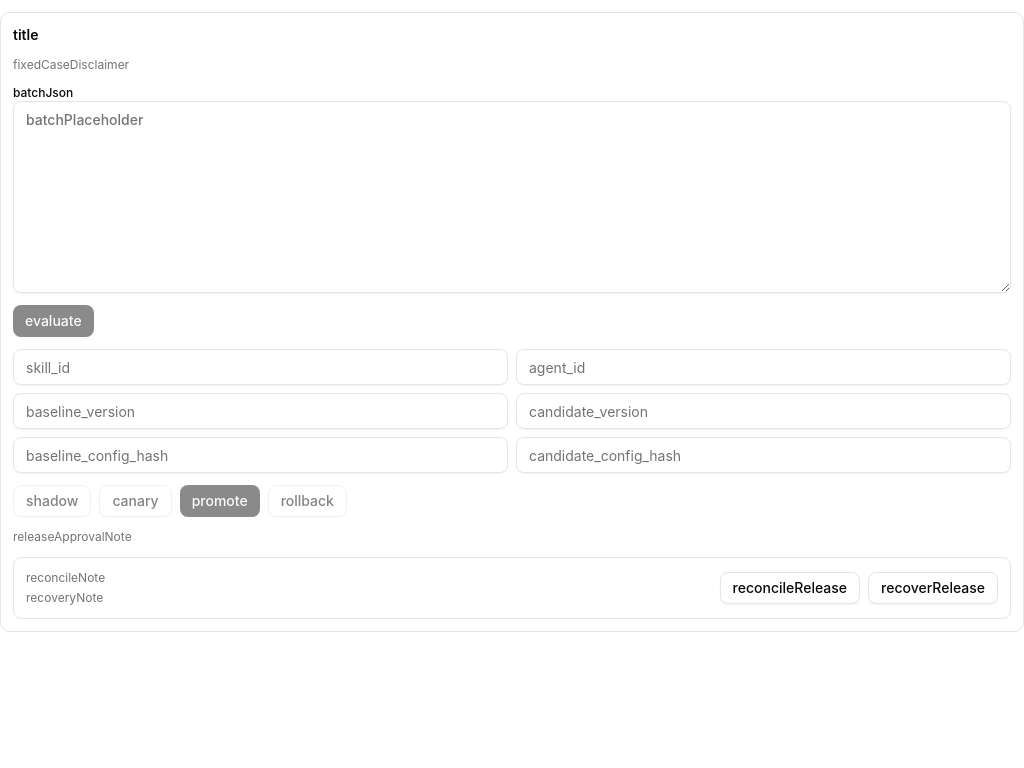
EvolutionEvaluationReleasePanel › keeps the pending recovery controls available and shows recovery errors
The image size is (1024, 768).
Click the button "recoverRelease" at {"x": 933, "y": 588}, box x1=868 y1=572 x2=998 y2=604
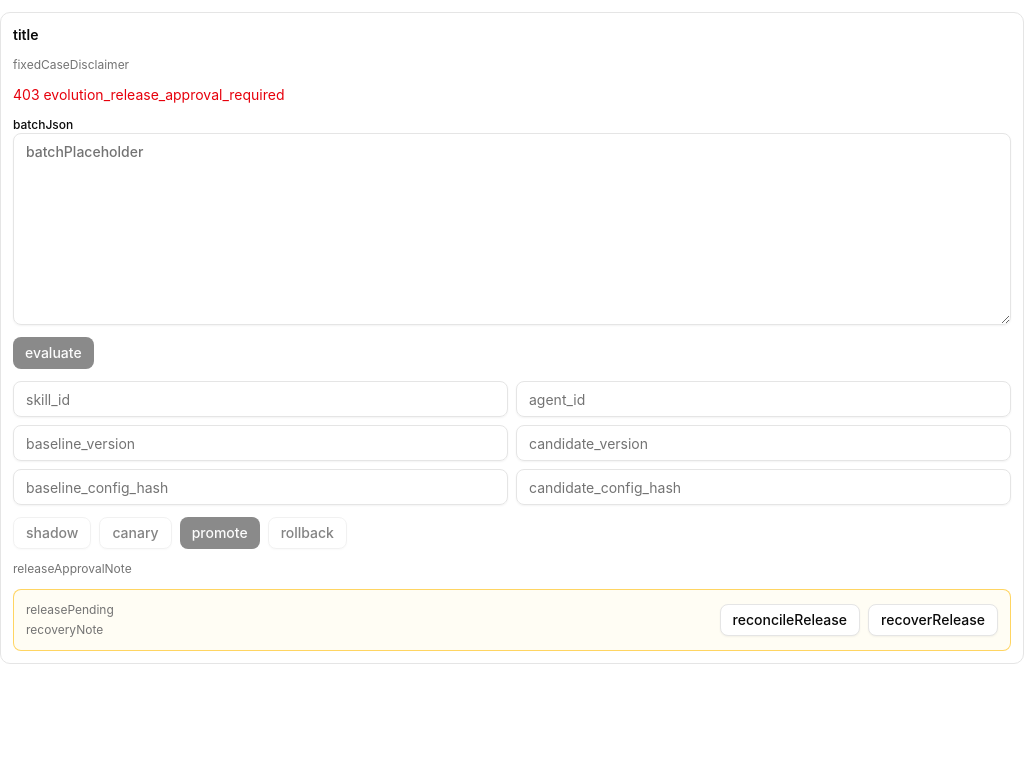
Check: the button "recoverRelease" is shown, box x1=868 y1=604 x2=998 y2=636
Check: the message reads "403 evolution_release_approval_required", box x1=13 y1=86 x2=284 y2=103
